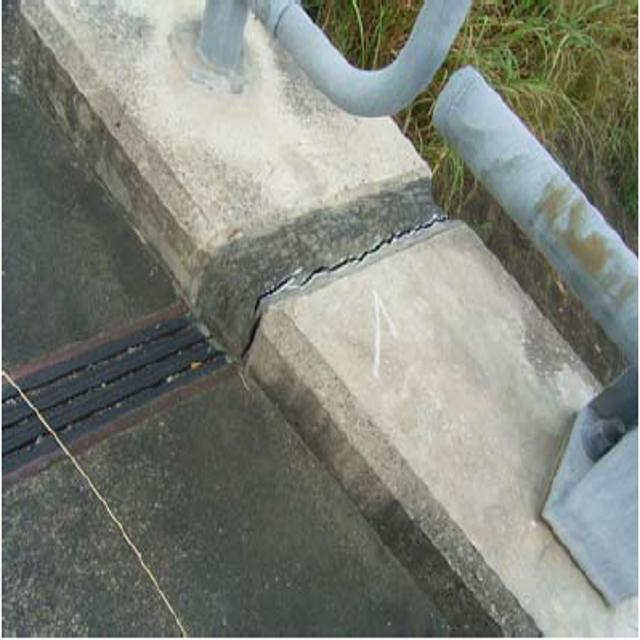crack: (225, 197, 474, 390)
